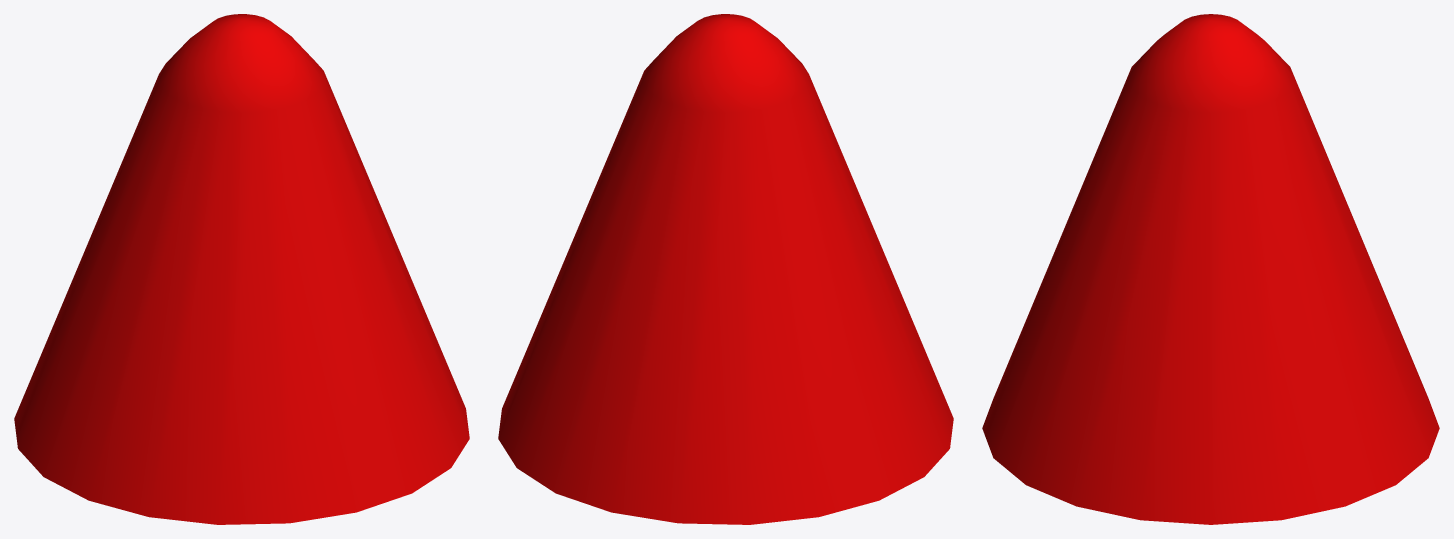
The picture shows the model from 3 angles, left to right: view 1: azimuth 30°, elevation 25°; view 2: azimuth 150°, elevation 25°; view 3: azimuth 270°, elevation 25°; orthographic projection.
Parts seen in each view (by area): view 1: Cone1; view 2: Cone1; view 3: Cone1.
Part boxes in pixels (box(x1,y1,x2,y2)): Cone1: box(14, 14, 469, 524); Cone1: box(498, 14, 953, 524); Cone1: box(982, 14, 1439, 524).
Bounding box in the file's own units: 6.51 × 6.4 × 6.51.
